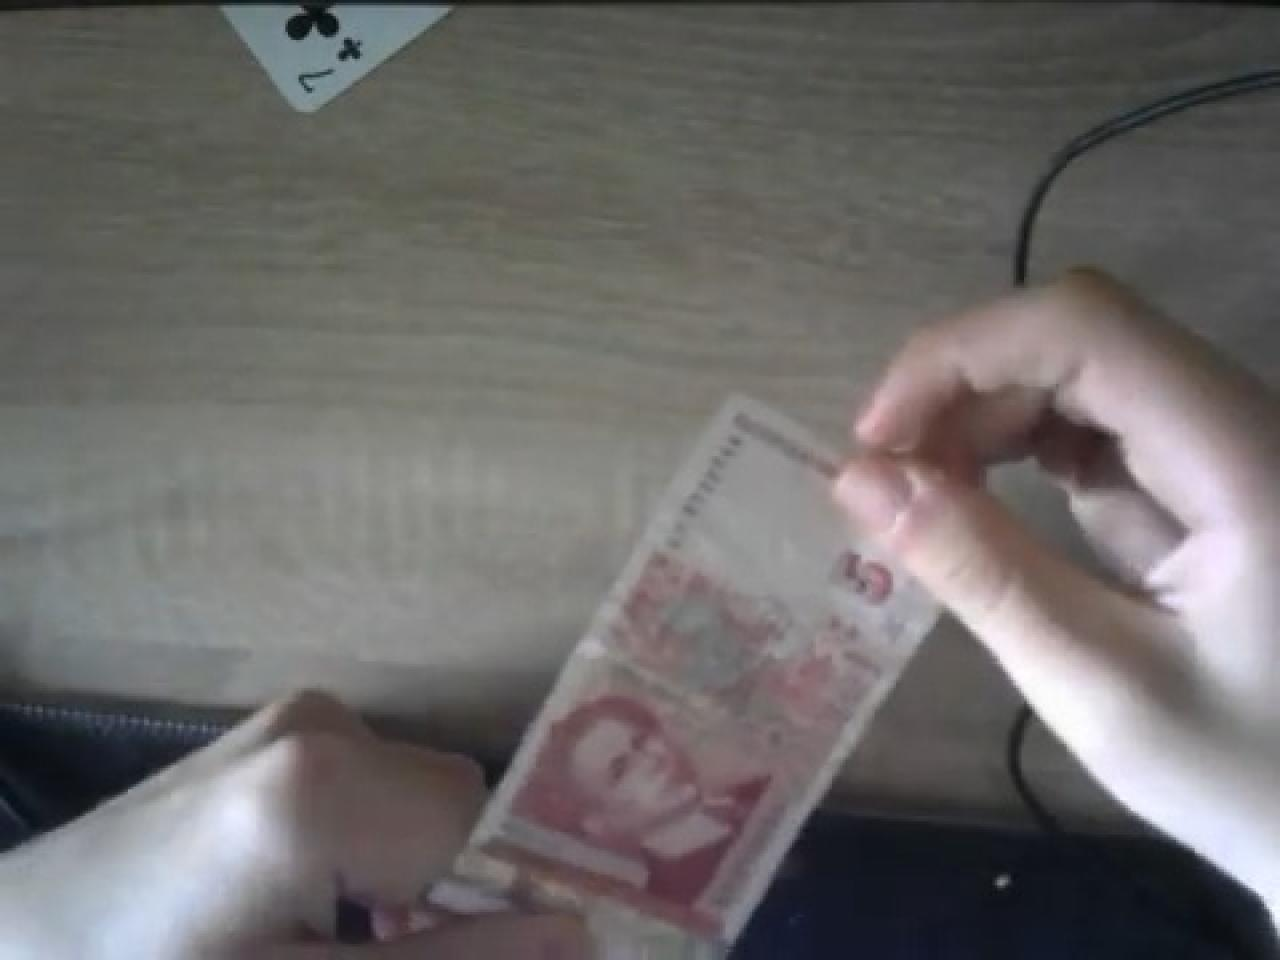5leva: (360, 392, 946, 960)
